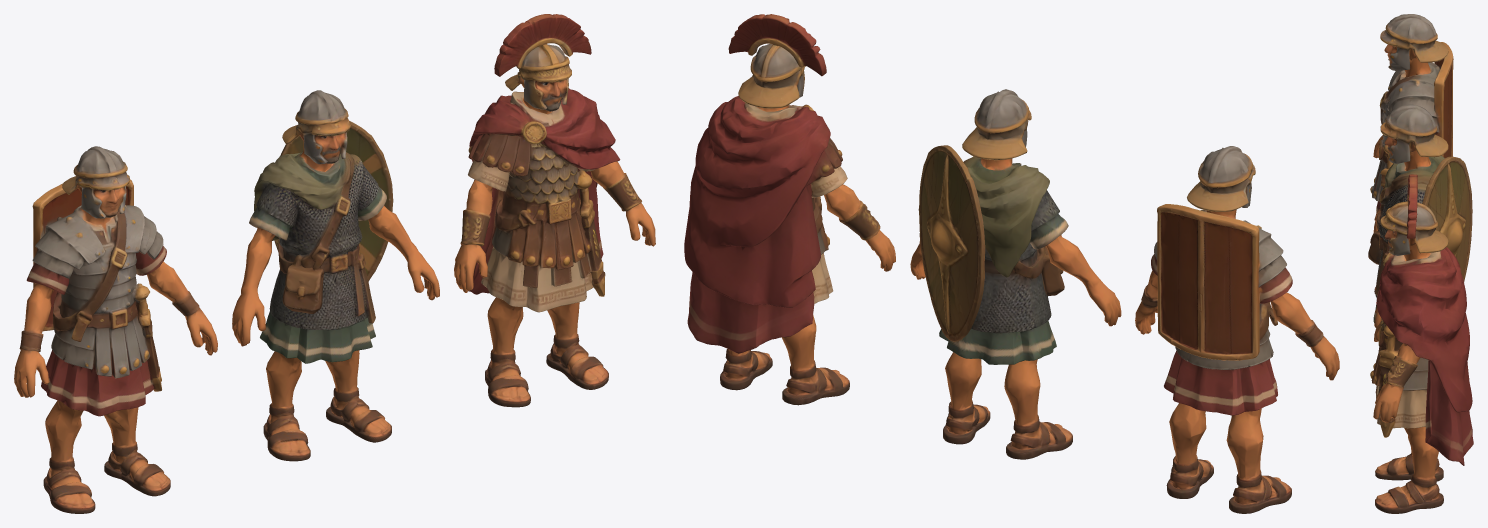
File: soldados_romanos_tripo.glb
3 renders of one model, left to right at view 1: azimuth 30°, elevation 25°; view 2: azimuth 150°, elevation 25°; view 3: azimuth 270°, elevation 25°, orthographic. The views are drawn at different scales.
Visible parts, largest first — view 1: tripo_node_8b81c4e1-5ace-4ed0-a4d1-c91c8f8921bb; view 2: tripo_node_8b81c4e1-5ace-4ed0-a4d1-c91c8f8921bb; view 3: tripo_node_8b81c4e1-5ace-4ed0-a4d1-c91c8f8921bb.
Part boxes in pixels (<box>): tripo_node_8b81c4e1-5ace-4ed0-a4d1-c91c8f8921bb: <box>14,14,655,513</box>; tripo_node_8b81c4e1-5ace-4ed0-a4d1-c91c8f8921bb: <box>684,14,1339,513</box>; tripo_node_8b81c4e1-5ace-4ed0-a4d1-c91c8f8921bb: <box>1368,14,1473,513</box>.
Size of the model in its own units: 1 by 0.5482 by 0.1678.
Materials: 1 (1 with a texture image).
